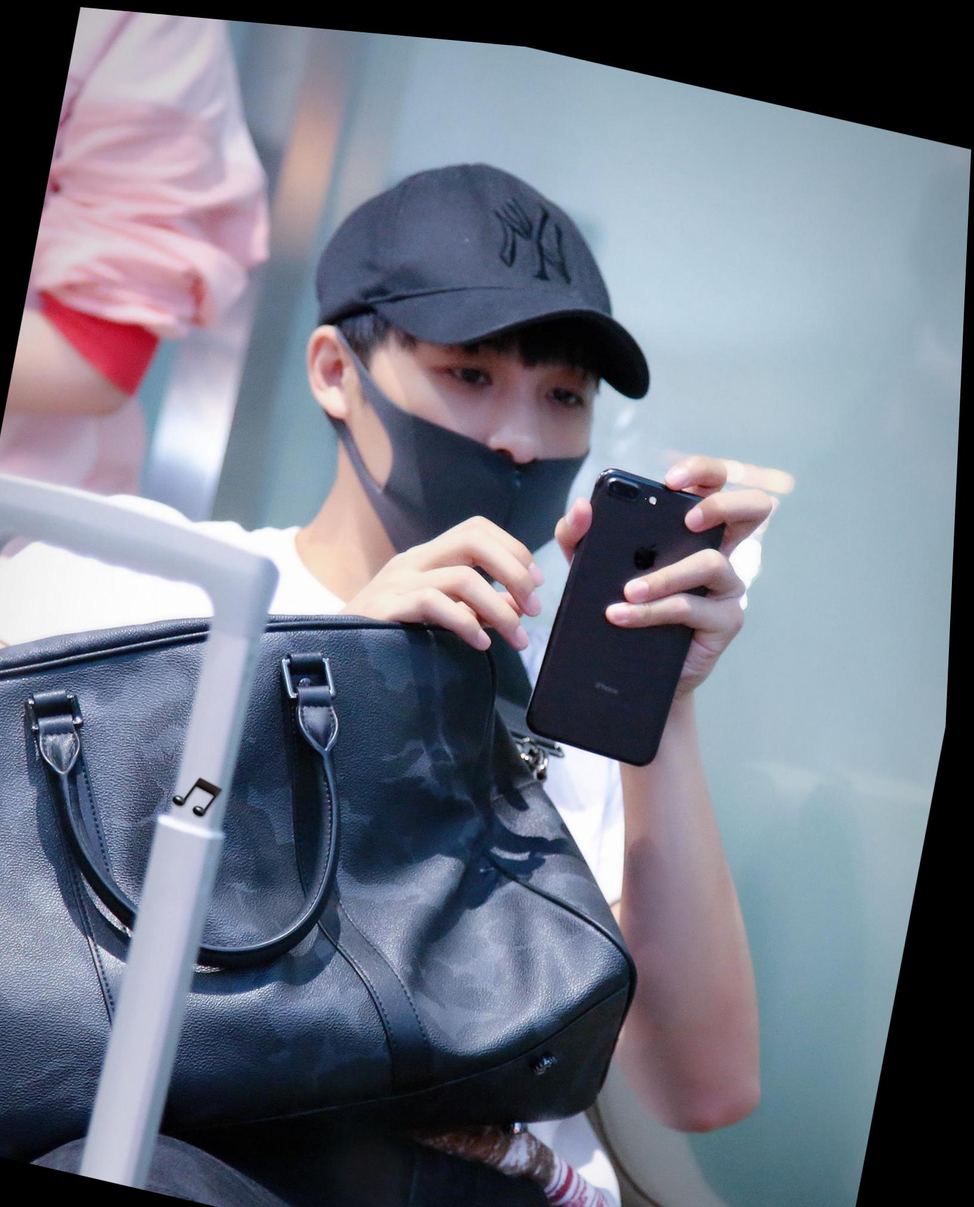WRONG: (333, 271, 614, 595)
